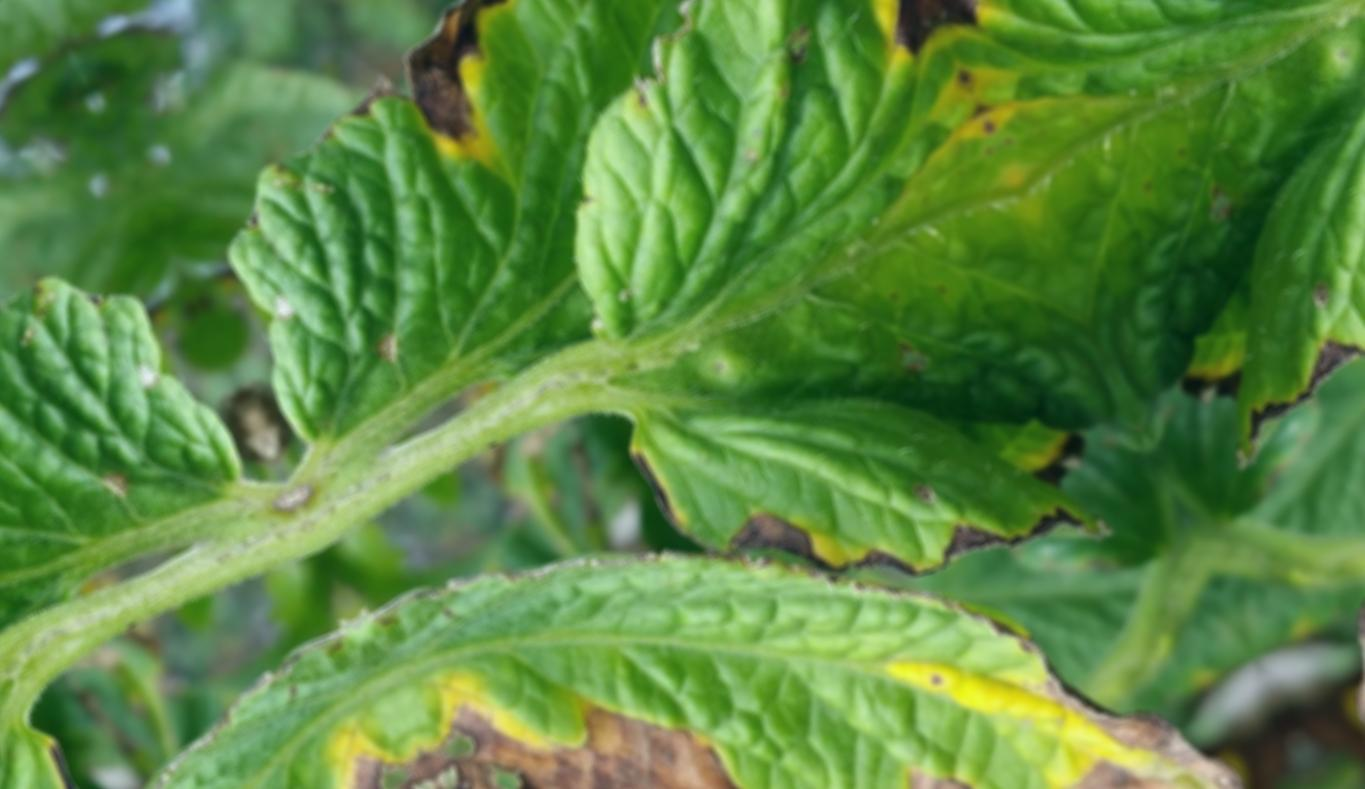Tomato leaf bacterial spot: (417, 0, 1159, 692), (100, 0, 1017, 532), (351, 283, 1297, 789)
